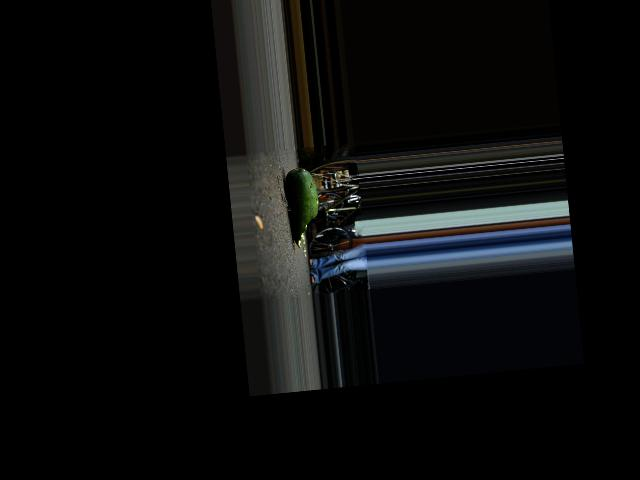cucumber: (283, 166, 322, 250)
